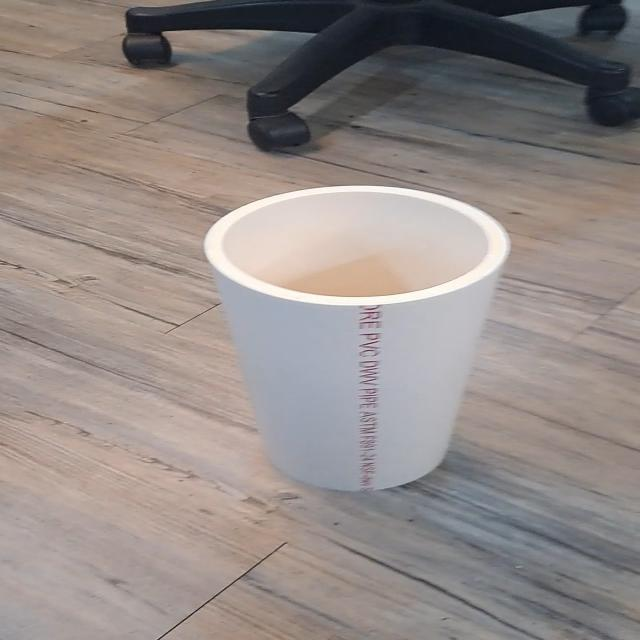CORAL: (199, 174, 516, 494)
